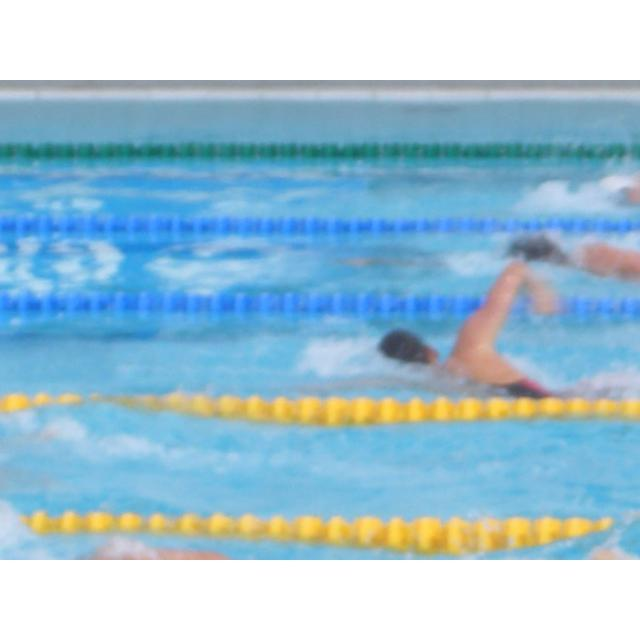human: (376, 258, 542, 391)
